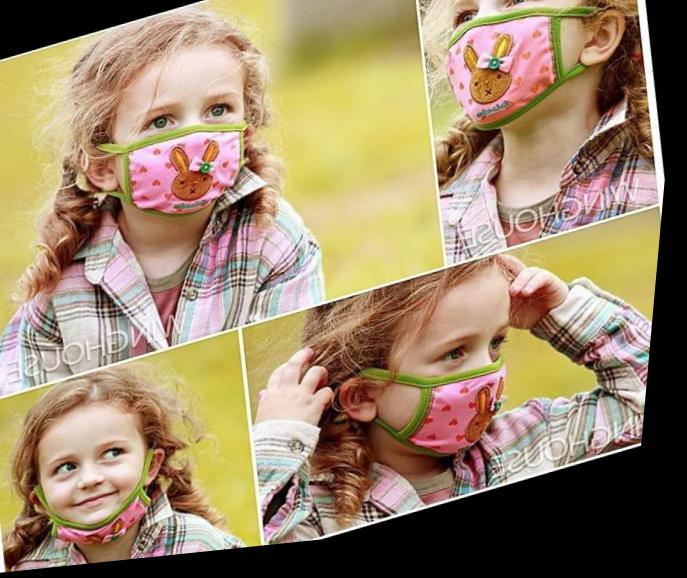OK: (422, 1, 601, 149), (388, 327, 540, 481), (125, 84, 266, 227)
WRONG: (45, 418, 167, 555)
